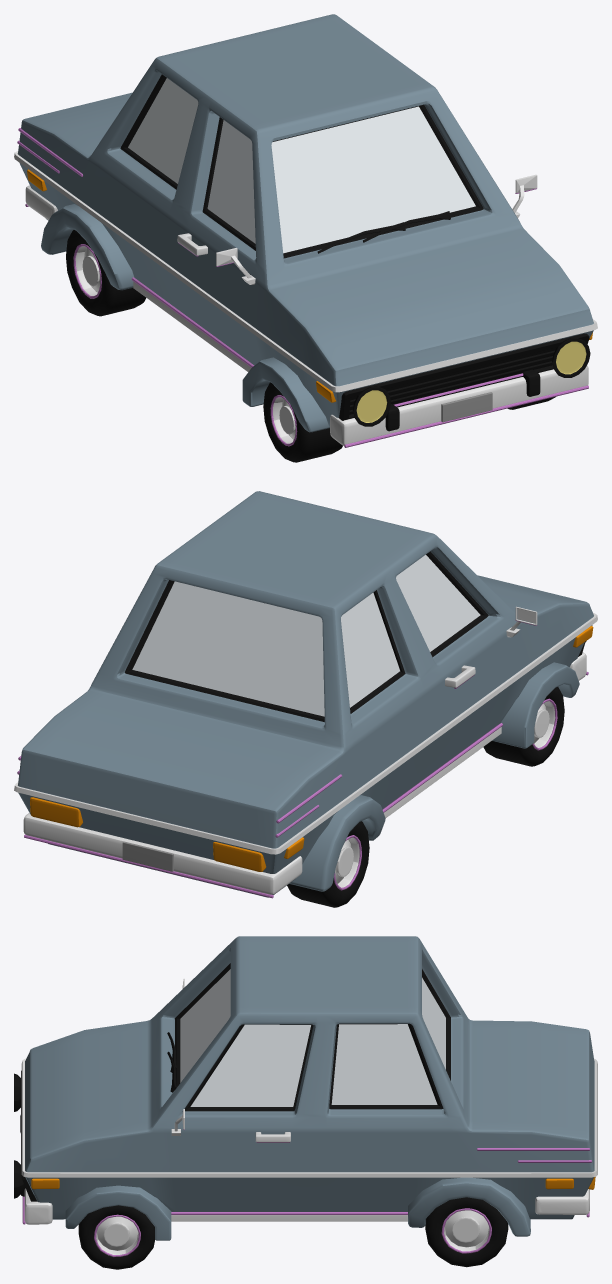
The model's file is car_03 (2).fbx.
3 renders of one model, top to bottom at view 1: azimuth 30°, elevation 25°; view 2: azimuth 150°, elevation 25°; view 3: azimuth 270°, elevation 25°, orthographic. The views are drawn at different scales.
Parts seen in each view (by area): view 1: car, mirrored_x_2, mirrored_x_1; view 2: car, mirrored_x_2, mirrored_x_1; view 3: car, separated_01, extracted_01.
Part boxes in pixels (<box>): car: <box>14,14,597,447</box>; mirrored_x_2: <box>66,230,145,316</box>; mirrored_x_1: <box>263,382,342,462</box>; car: <box>14,491,597,898</box>; mirrored_x_2: <box>287,821,369,907</box>; mirrored_x_1: <box>483,687,564,766</box>; car: <box>14,936,597,1240</box>; separated_01: <box>425,1197,508,1267</box>; extracted_01: <box>78,1205,155,1269</box>.
Size of the model in its own units: 6.35 by 5.1 by 11.23.
